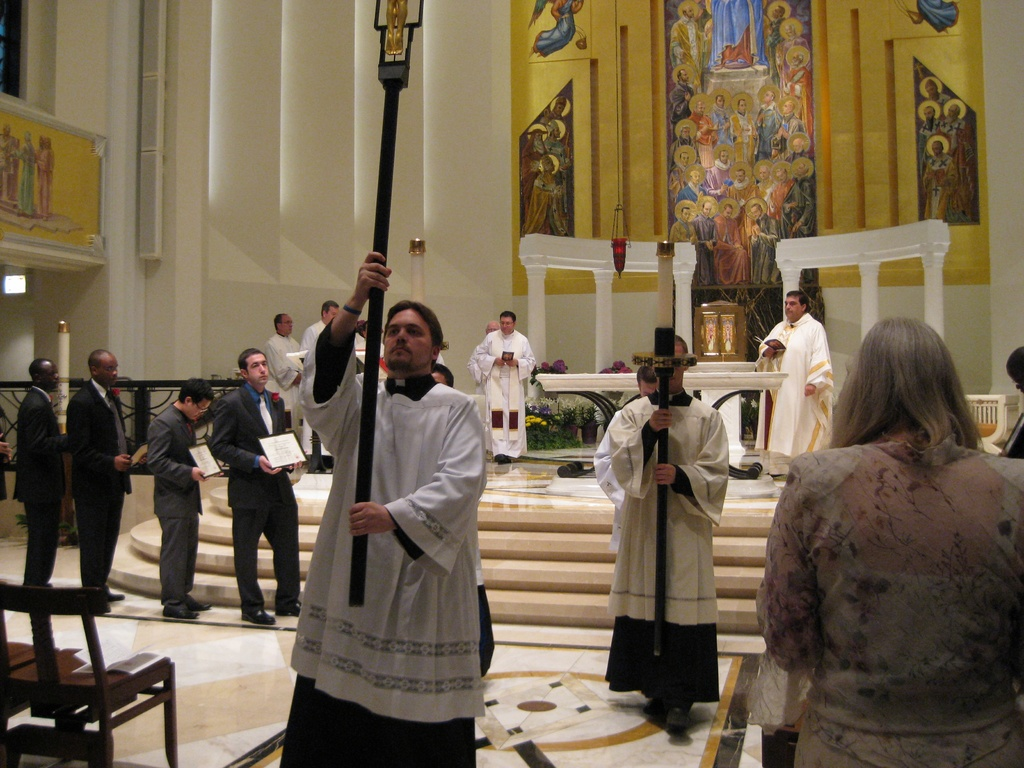Person: (0, 290, 1023, 767)
